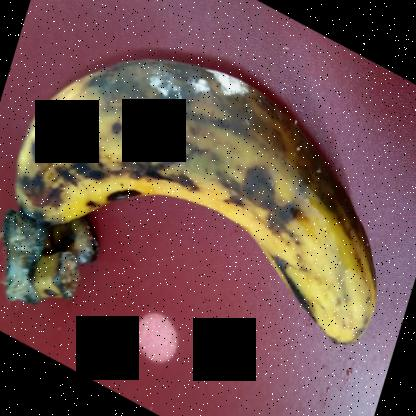rotten: (17, 51, 390, 380)
